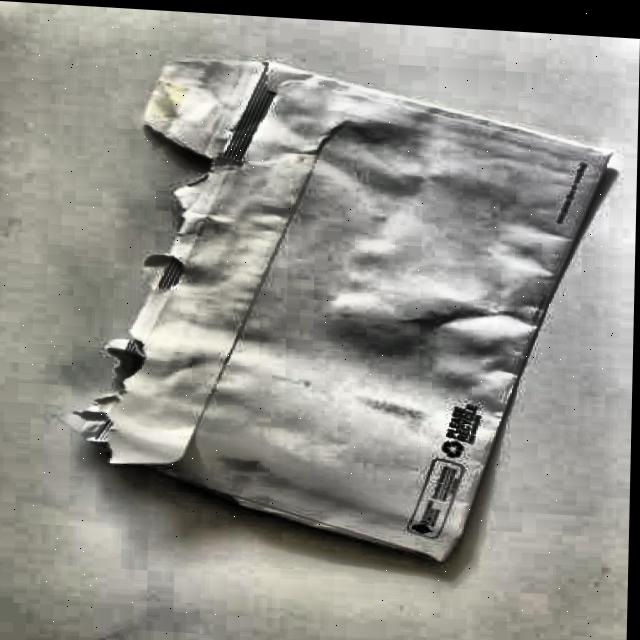paper: (73, 49, 615, 574)
